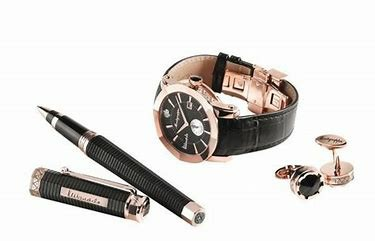pen: (36, 103, 205, 225)
